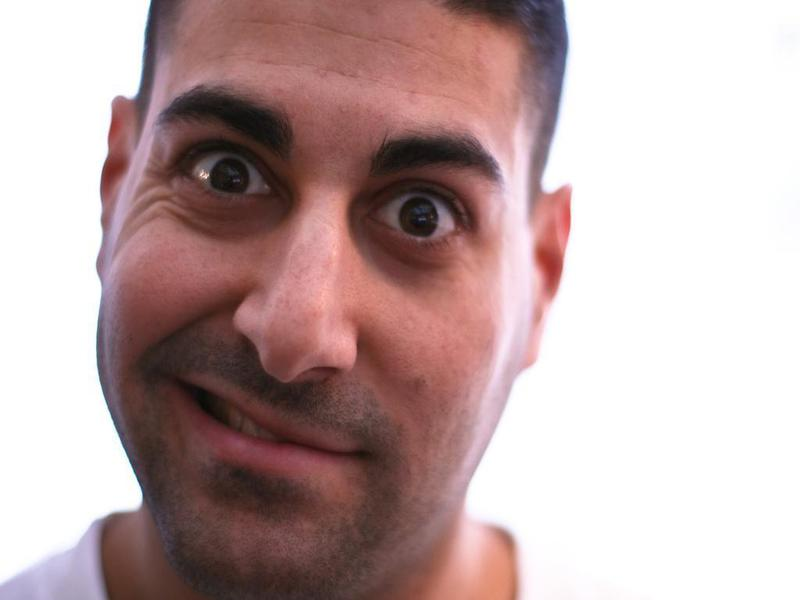person: (1, 1, 575, 600)
